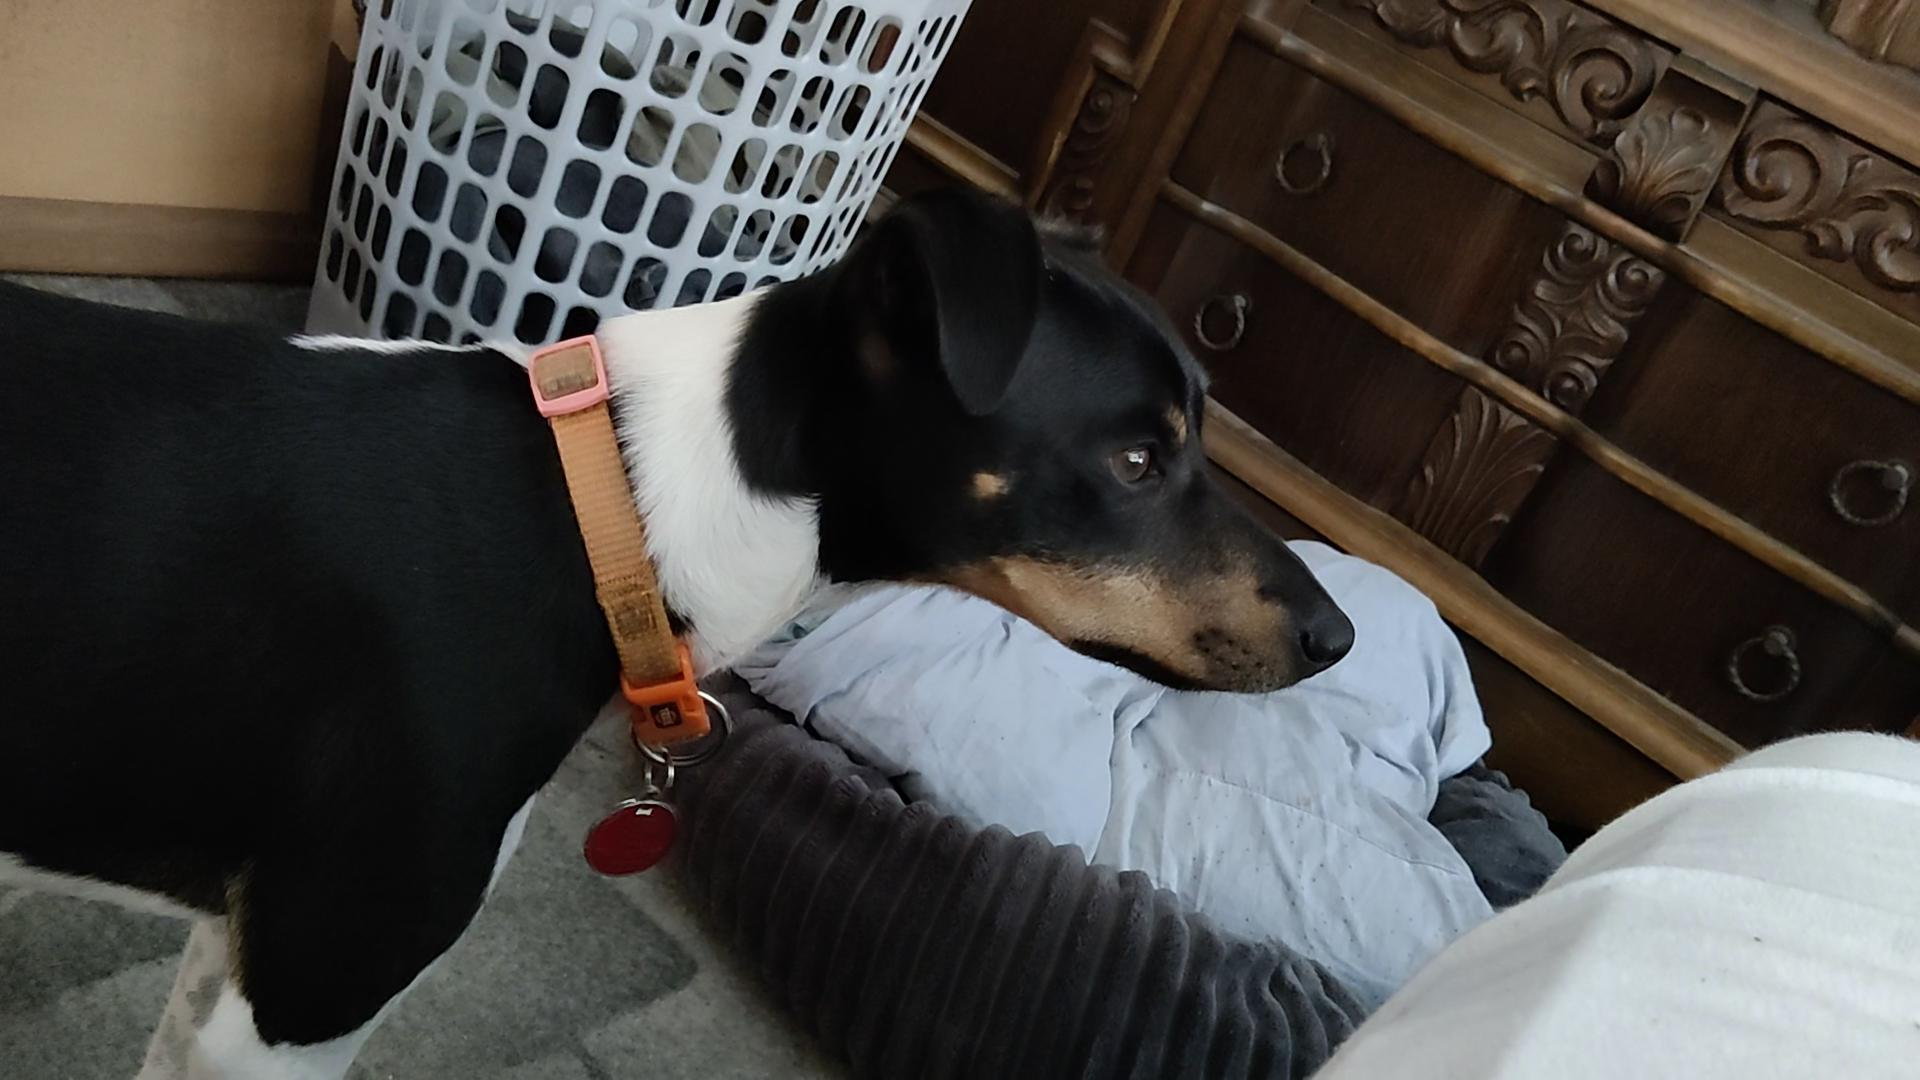Dog: (0, 175, 1365, 1079)
